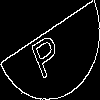P: (25, 25, 64, 81)
